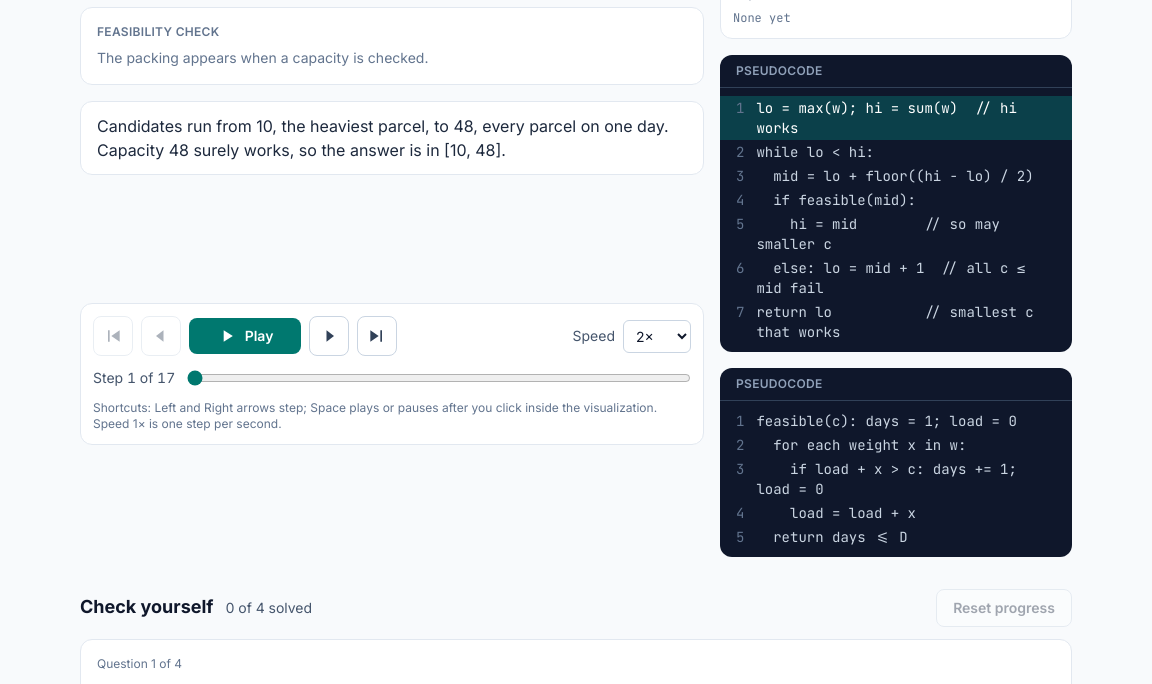
Test case: binary search on the answer lesson › shows the greedy packing of a checked capacity
(page scrolled)
Click the button named "Next step": (329, 336) [309,316,349,356]
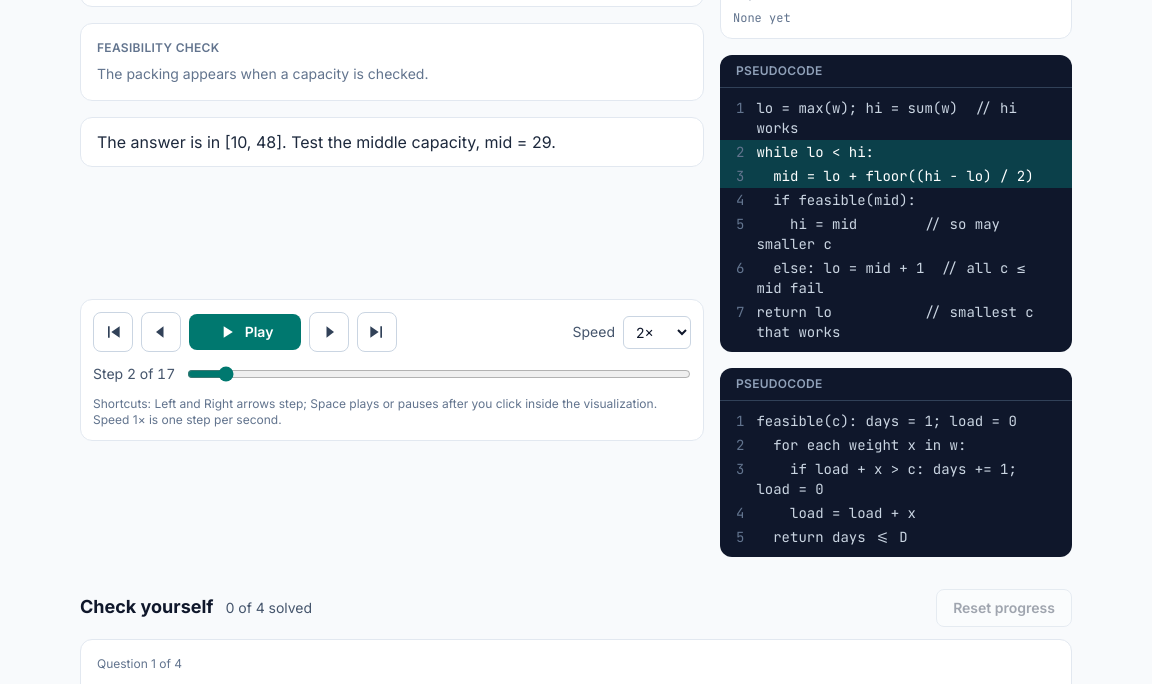
expect the text "Test the middle capacity, mid = 29." is shown: met, box [97,132,556,152]
Click the button named "Next step": (329, 332) [309,312,349,352]
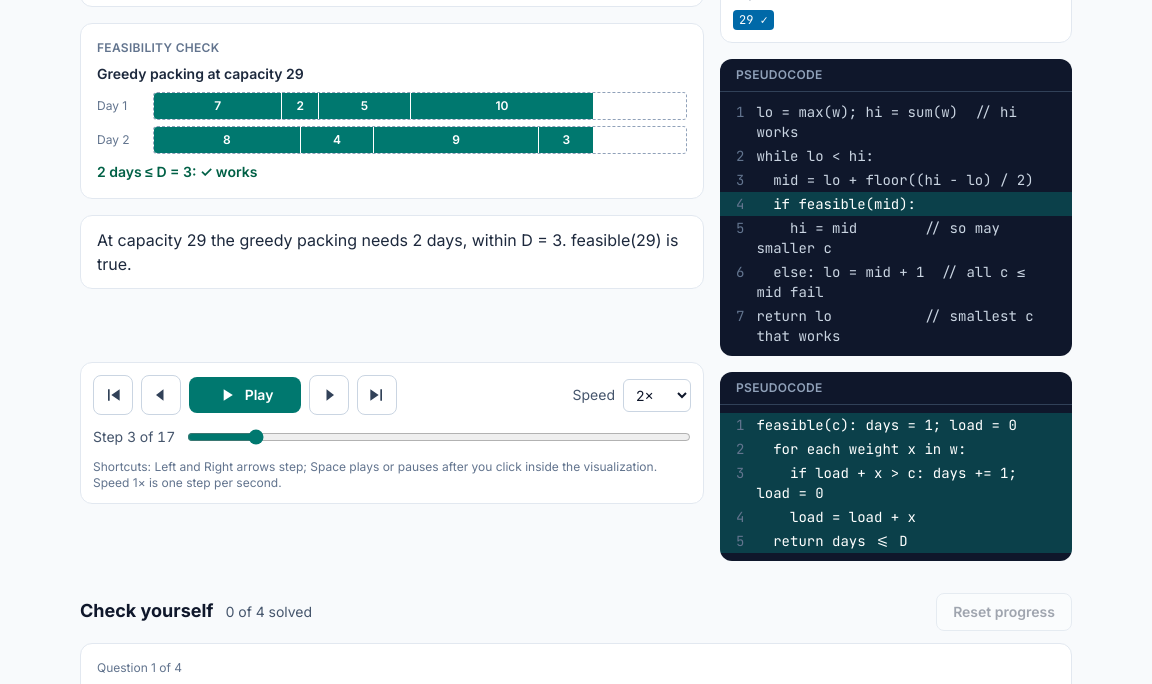
expect the text "At capacity 29 the greedy packing needs 2 days, within D = 3." is shown: met, box [97,230,678,274]
expect the text "2 days ≤ D = 3: ✓ works" is shown: met, box [97,163,257,180]
expect the list item with aria-label "Day 1: 7 + 2 + 5 + 10 = 24 of 29" is shown: met, box [97,92,687,120]
Click the button named "Next step": (329, 395) [309,375,349,415]
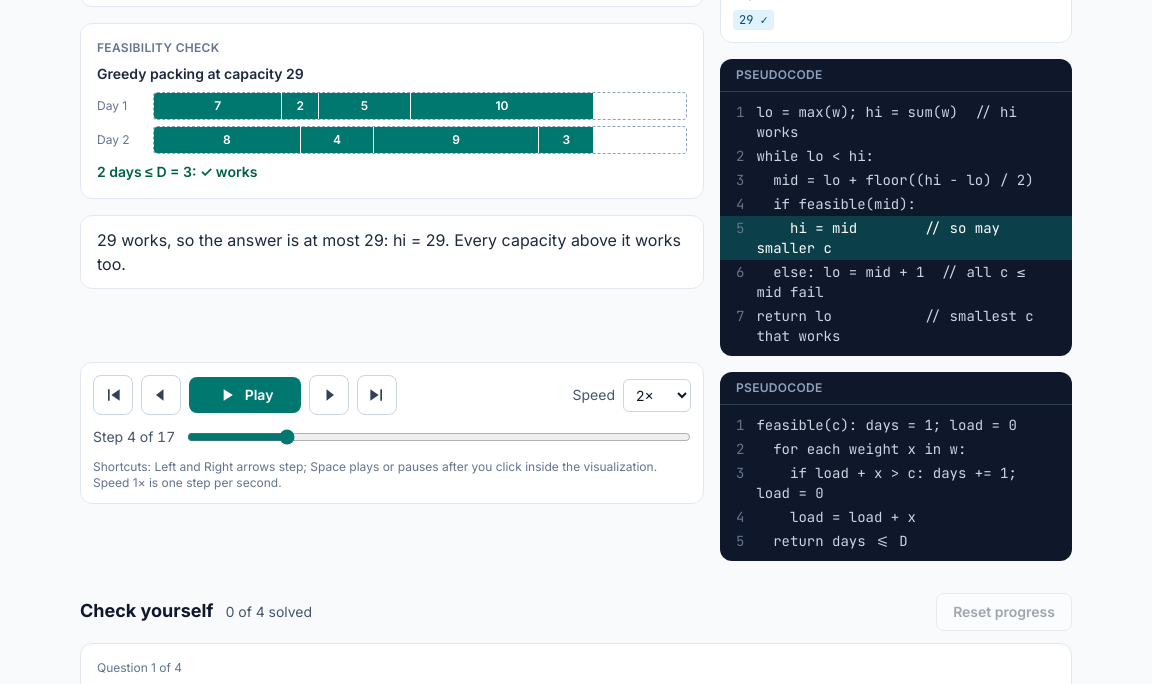
expect the text "hi = 29" is shown: met, box [97,230,681,274]
